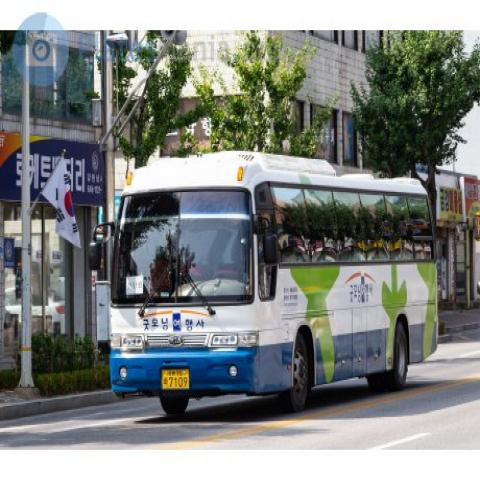LP: (155, 355, 200, 396)
